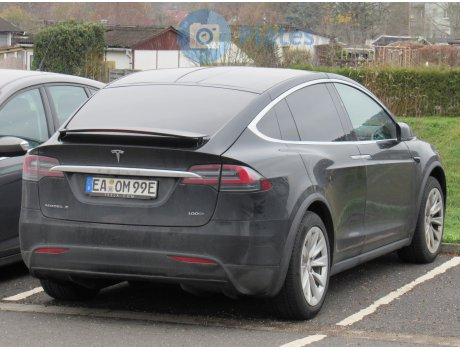License Plates: (91, 177, 152, 192)
